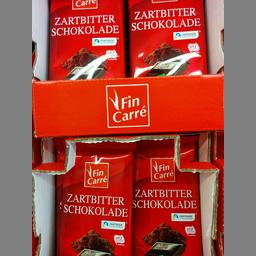chocolate: (53, 137, 136, 255), (130, 135, 199, 255), (124, 0, 210, 75), (48, 0, 126, 77)
